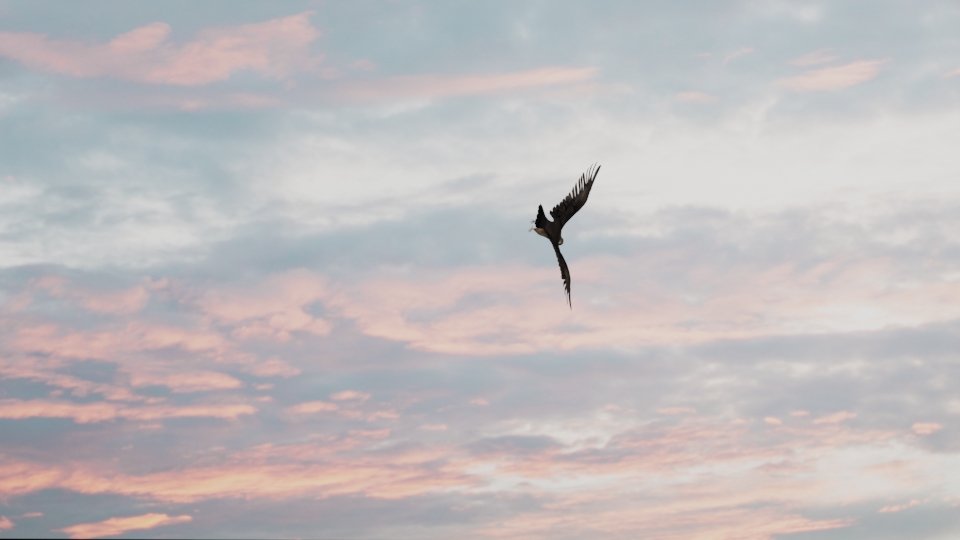bird: (532, 161, 604, 305)
